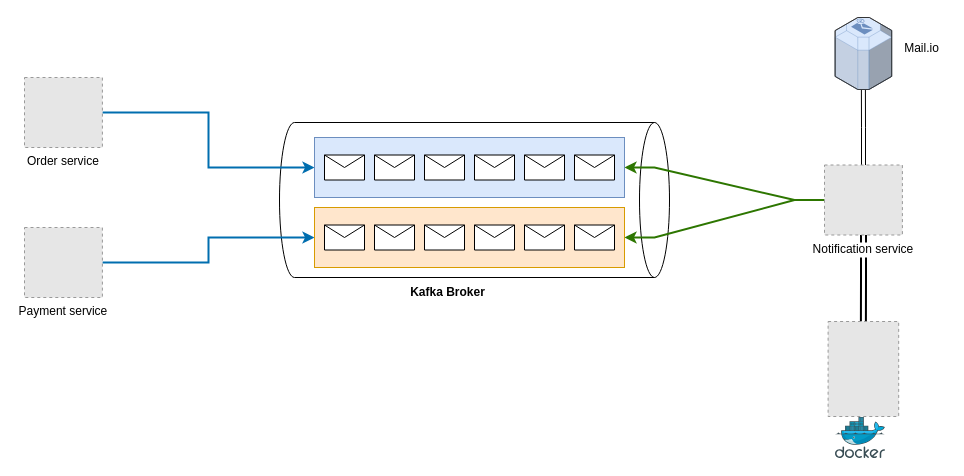
Image size: 964x476. Some labels were removed from this diagram. Grey dashed boxes stand in for pictures. Each missing label, with the box of its shape:
order-topic: (314, 136, 624, 198)
payment-topic: (314, 206, 624, 268)
